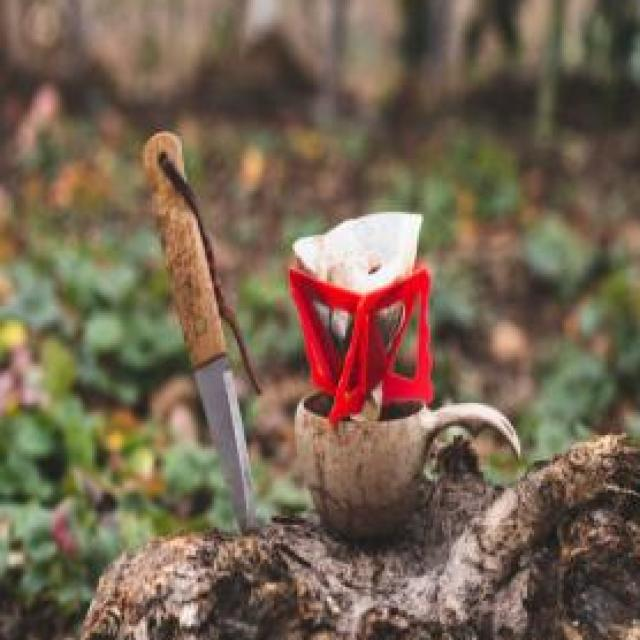knife: (132, 129, 262, 532)
